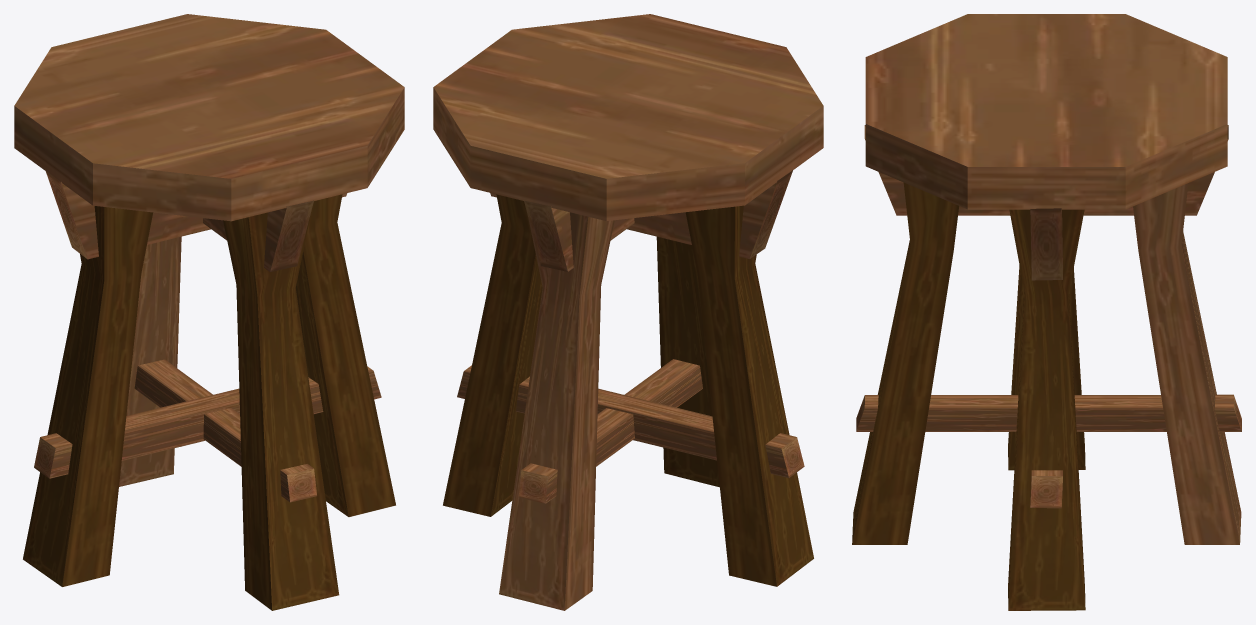
File: prop_stool.glb
The picture shows the model from 3 angles, left to right: view 1: azimuth 30°, elevation 25°; view 2: azimuth 150°, elevation 25°; view 3: azimuth 270°, elevation 25°; orthographic projection.
Parts seen in each view (by area): view 1: Stool; view 2: Stool; view 3: Stool.
Boxes of the visible parts, <box> form: Stool: <box>14,14,404,610</box>; Stool: <box>433,14,823,610</box>; Stool: <box>852,14,1241,610</box>.
Size of the model in its own units: 0.4746 by 0.5887 by 0.4746.
1 material, 1 textured.
